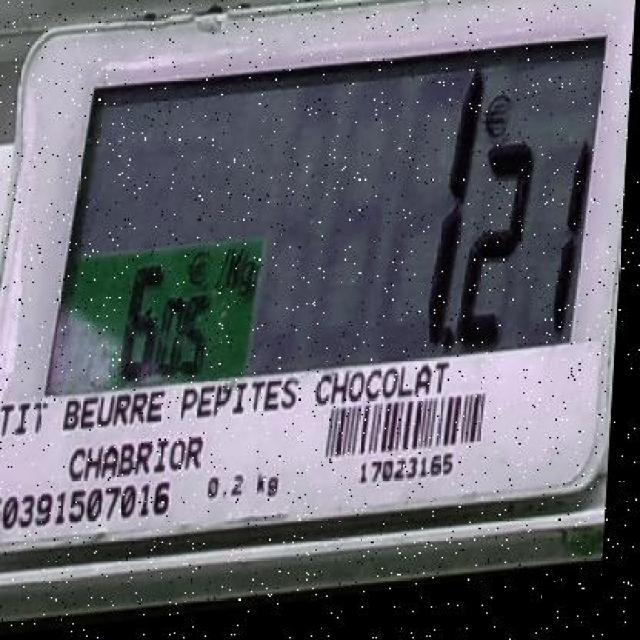display: (44, 34, 608, 397)
frame: (420, 44, 596, 356), (101, 240, 222, 383), (0, 476, 180, 534), (351, 448, 462, 488), (203, 466, 248, 505)
gauge: (0, 0, 640, 625)
